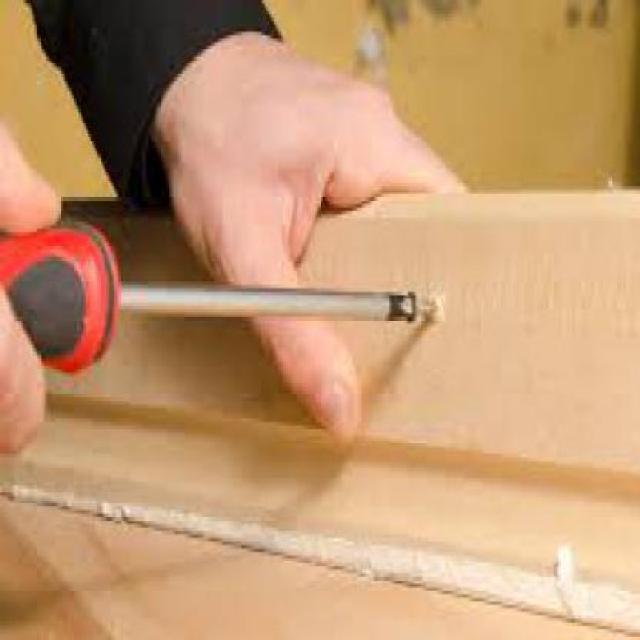screwdriver: (0, 228, 437, 370)
